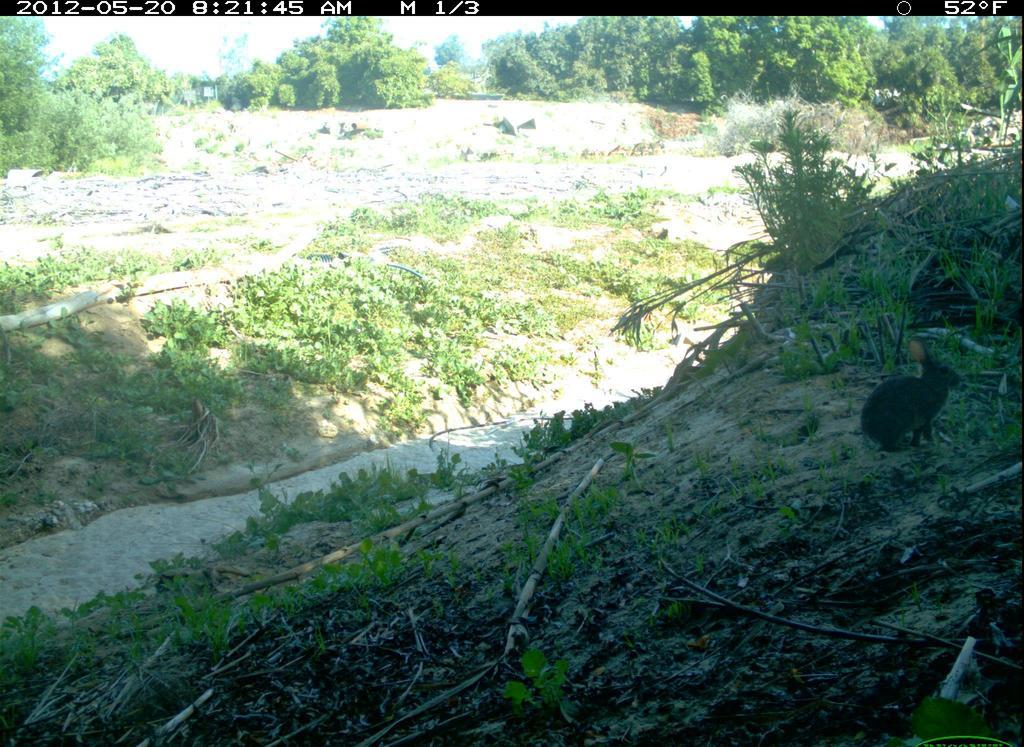rabbit: (817, 314, 989, 484)
